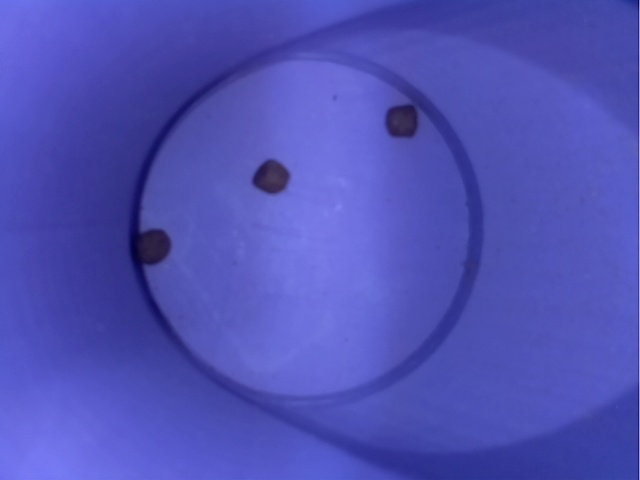croquette: (117, 221, 186, 274), (240, 146, 297, 204), (374, 92, 424, 145)
